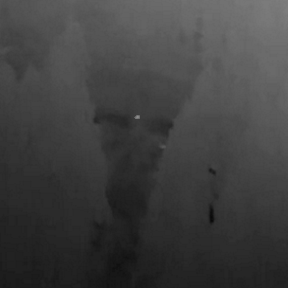Target: (134, 115, 141, 120)
